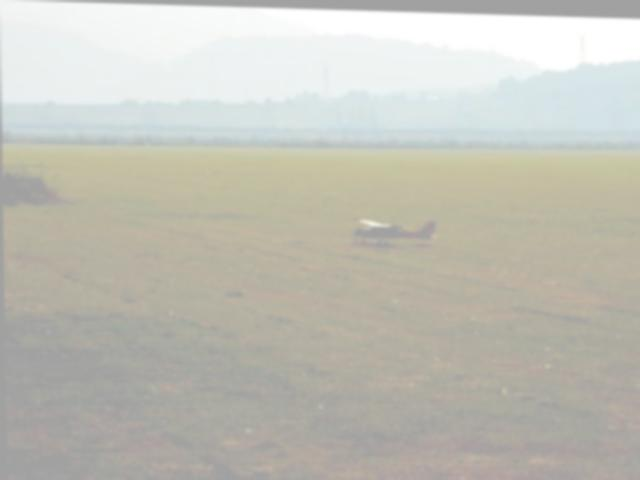iha: (342, 215, 438, 247)
